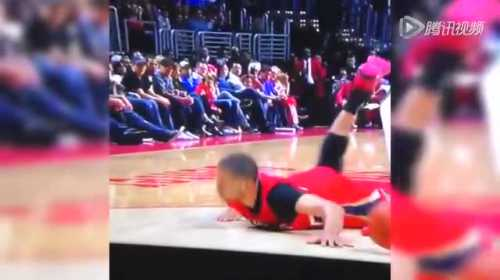10+: (109, 1, 391, 256)
down: (206, 39, 391, 257)
